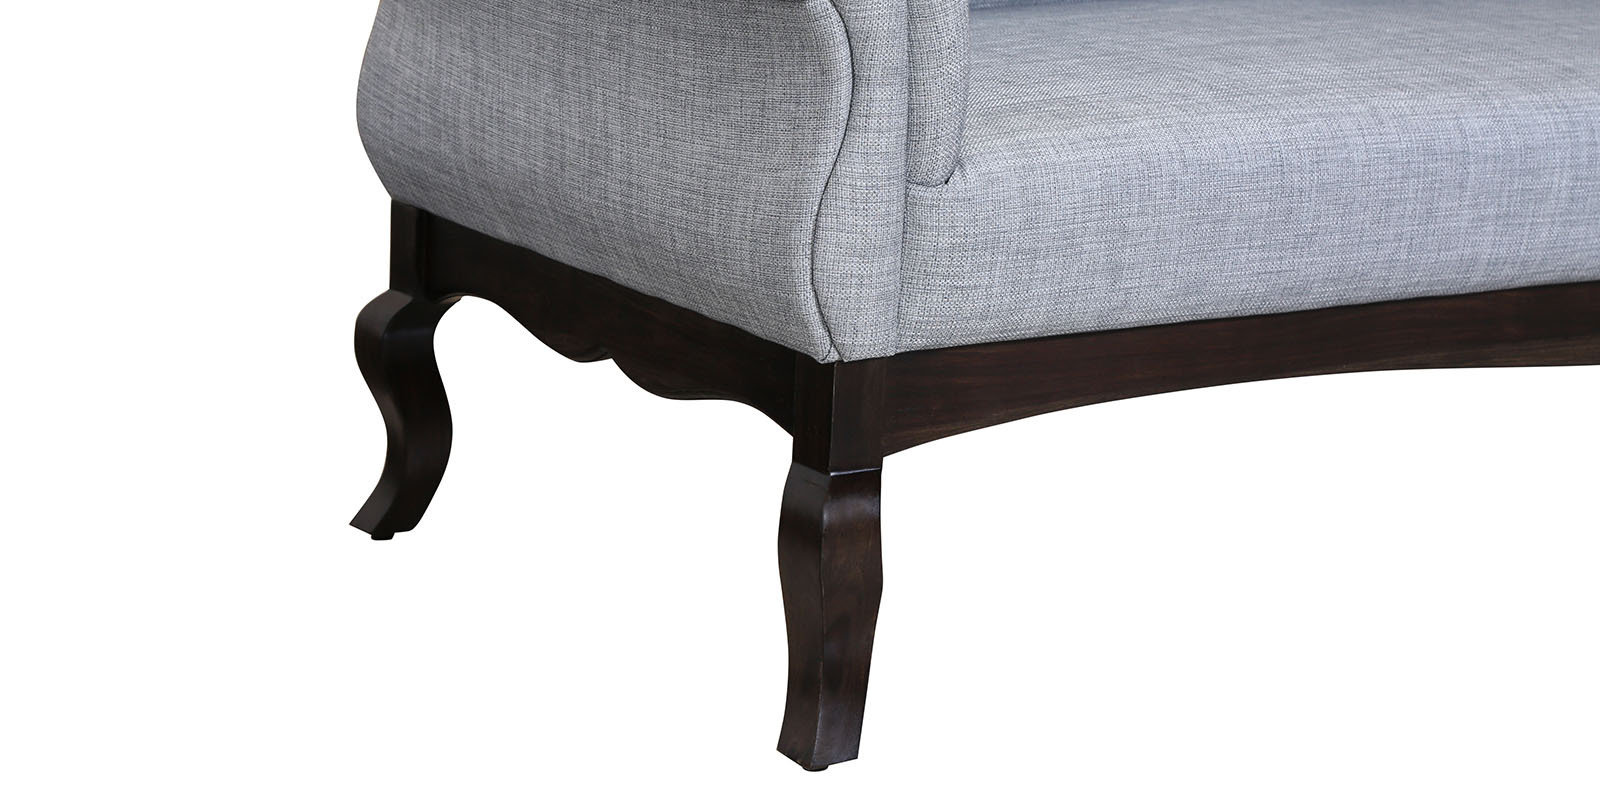Anne Three Seater Sofa in Warm Chestnut Finish by Amberville: (312, 8, 1600, 570)
